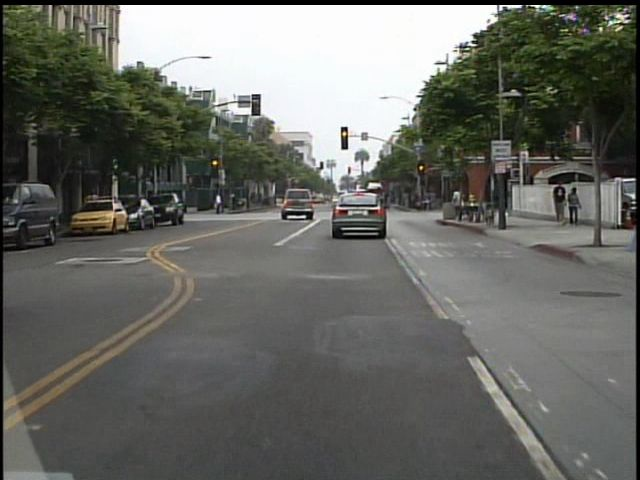person: (550, 179, 569, 227), (447, 185, 468, 224), (563, 185, 581, 229), (215, 189, 228, 216)
